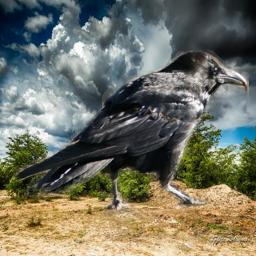Crow: (12, 48, 249, 220)
